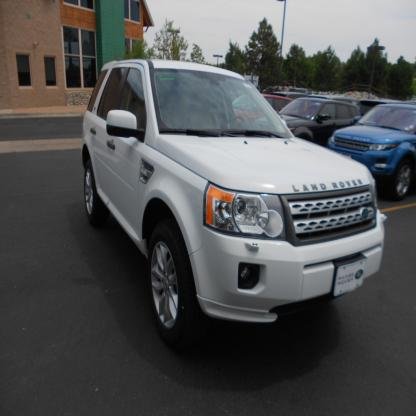Vehicle: (82, 61, 388, 349)
